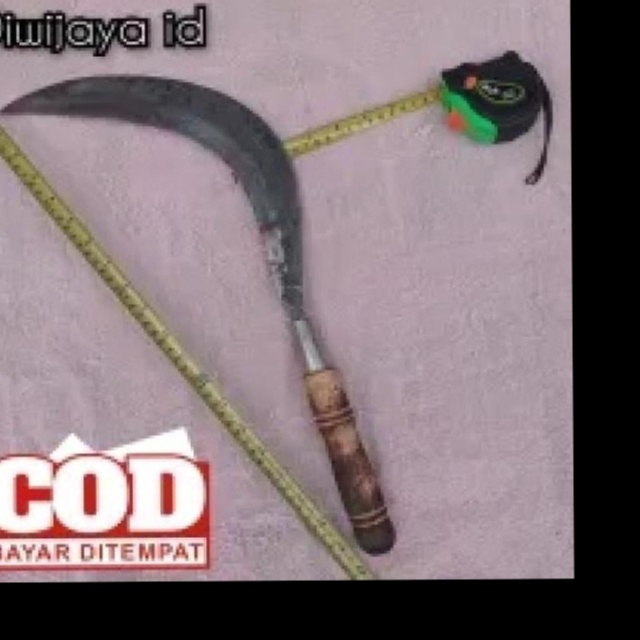Sharp-Object: (1, 70, 392, 558)
